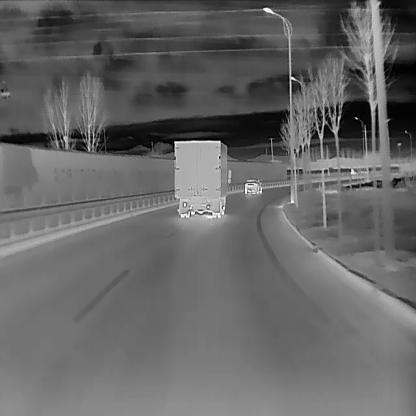car: (173, 137, 231, 218), (244, 178, 262, 194)
